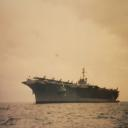Portanaves: (21, 66, 122, 106)
